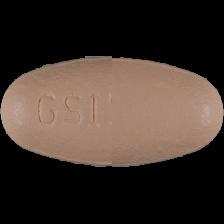55154-4427: (0, 0, 224, 224)
